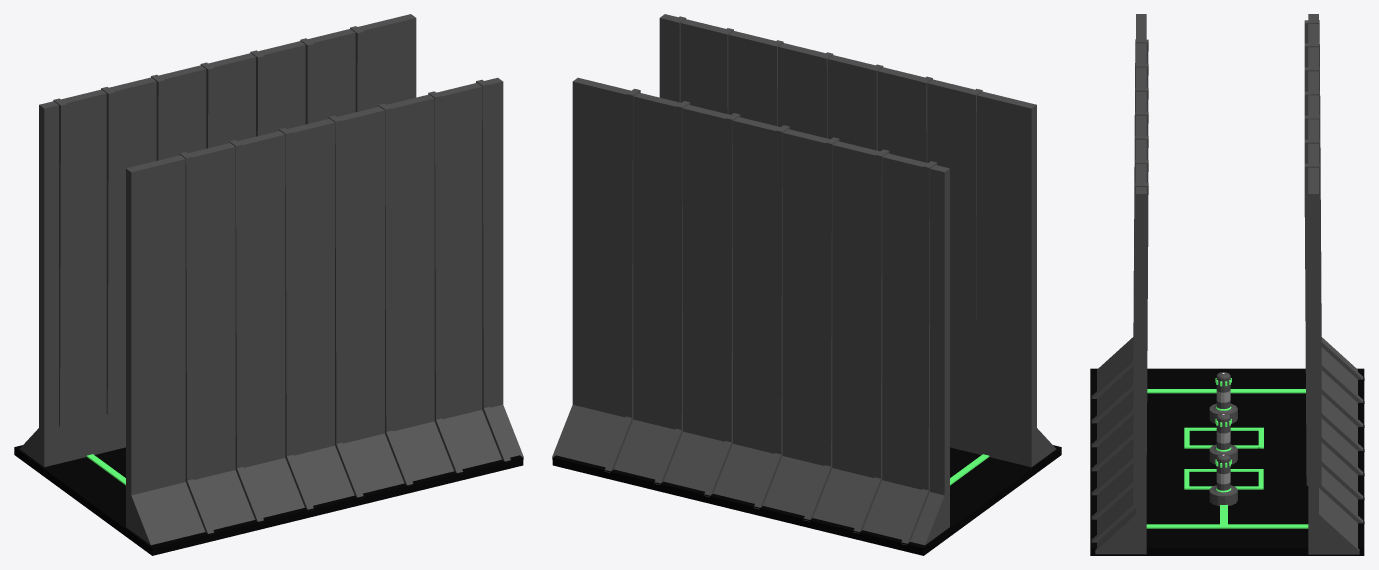
Rendered from ConnectionSection1.fbx.
3 views of the same model, side by side, from view 1: azimuth 30°, elevation 25°; view 2: azimuth 150°, elevation 25°; view 3: azimuth 270°, elevation 25° (orthographic).
Parts seen in each view (by area): view 1: ConnectionSection1; view 2: ConnectionSection1; view 3: ConnectionSection1.
Boxes of the visible parts, box(x1,y1,x2,y2) form: ConnectionSection1: box(14, 14, 523, 555); ConnectionSection1: box(552, 14, 1061, 555); ConnectionSection1: box(1090, 14, 1364, 555).
Size of the model in its own units: 12021 by 11289 by 7696.
